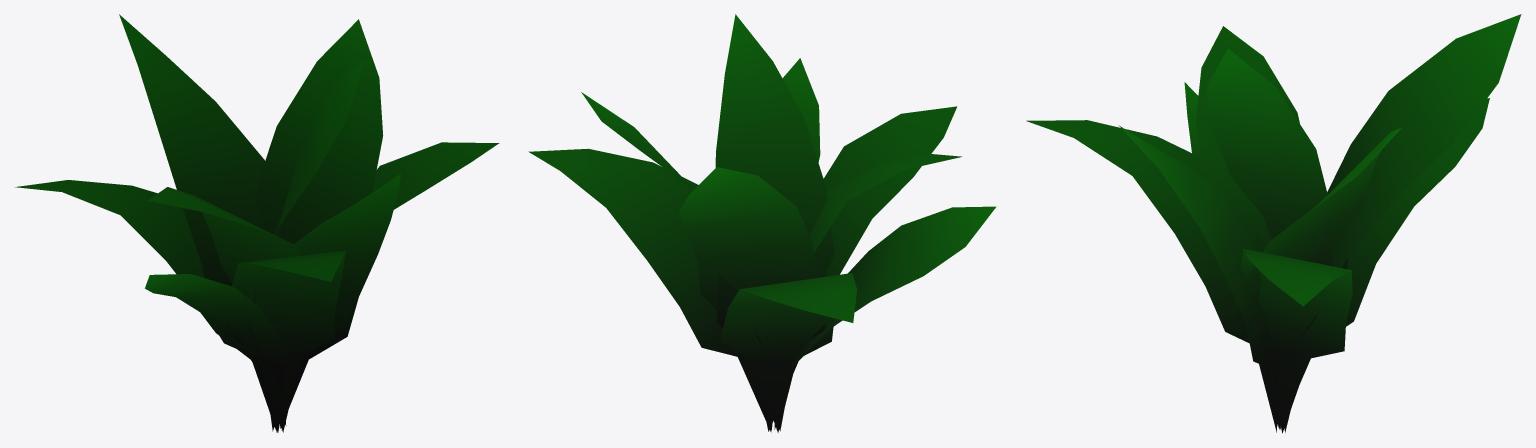
The model's file is TGV_Plant_06A.fbx.
3 views of the same model, side by side, from view 1: azimuth 30°, elevation 25°; view 2: azimuth 150°, elevation 25°; view 3: azimuth 270°, elevation 25° (orthographic). The views are drawn at different scales.
Parts seen in each view (by area): view 1: TGV_Plant_06A_LOD0; view 2: TGV_Plant_06A_LOD0; view 3: TGV_Plant_06A_LOD0.
Part boxes in pixels (left/top/right/bottom): TGV_Plant_06A_LOD0: left=15, top=14, right=499, bottom=432; TGV_Plant_06A_LOD0: left=528, top=14, right=996, bottom=432; TGV_Plant_06A_LOD0: left=1026, top=14, right=1521, bottom=433.
Size of the model in its own units: 127 by 113 by 122.
